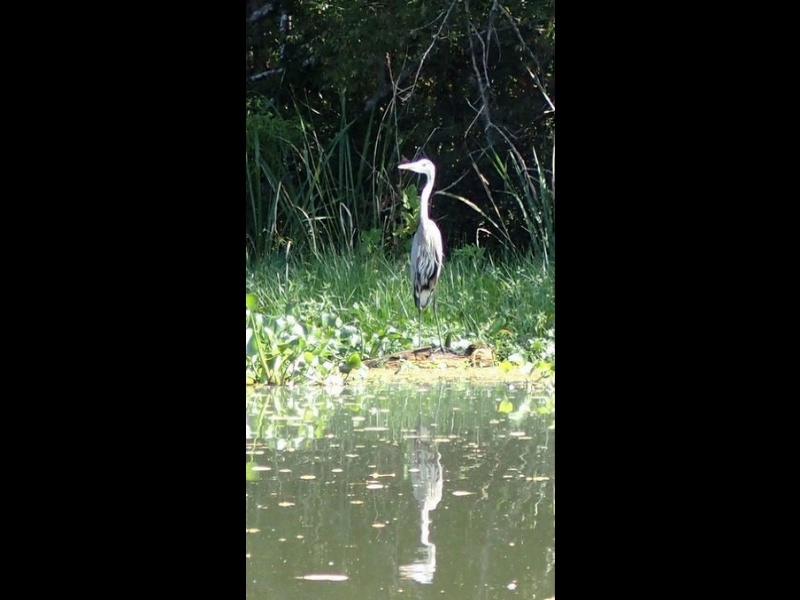heron: (396, 153, 451, 328)
